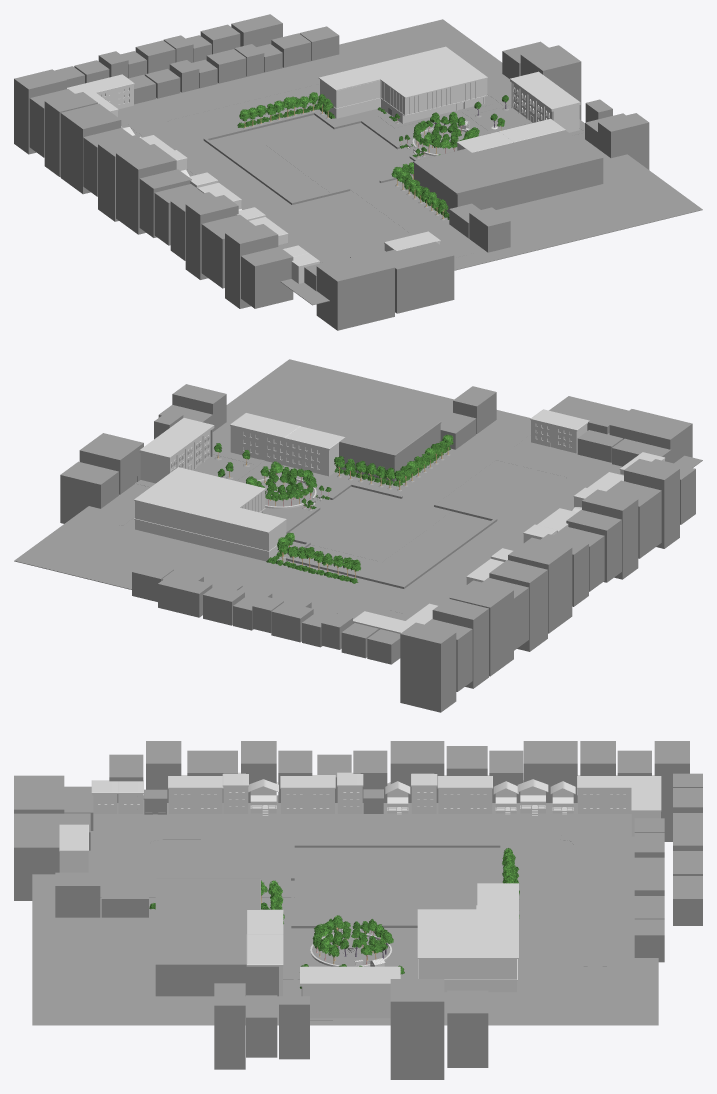
Rendered from school_final.fbx.
The picture shows the model from 3 angles, top to bottom: view 1: azimuth 30°, elevation 25°; view 2: azimuth 150°, elevation 25°; view 3: azimuth 270°, elevation 25°; orthographic projection. The views are drawn at different scales.
Visible parts, largest first — view 1: Ground, Main_Path, pCube16, pCube131, pCube156, Main_Path1, pCube157, pCube132, pCube143, pCube139, pCube161, pCube138 (+34 smaller); view 2: Ground, Main_Path, pCube131, pCube16, pCube146, pCube161, pCube132, pCube143, pCube156, pCube107, pCube138, pasted__House16 (+32 smaller); view 3: Ground, Main_Path, pCube16, pCube131, Main_Path1, pCube106, pCube161, pCube157, pCube107, pCube110, pCube143, pCube132 (+42 smaller).
Part boxes in pixels (<box>): Ground: <box>118,19,702,305</box>; Main_Path: <box>138,91,584,262</box>; pCube16: <box>413,130,603,212</box>; pCube131: <box>318,46,487,123</box>; pCube156: <box>316,252,394,330</box>; Main_Path1: <box>128,56,372,132</box>; pCube157: <box>377,241,454,313</box>; pCube132: <box>116,144,176,234</box>; pCube143: <box>60,103,121,194</box>; pCube139: <box>241,247,293,308</box>; pCube161: <box>510,71,580,132</box>; pCube138: <box>225,224,278,308</box>; Ground: <box>14,359,702,612</box>; Main_Path: <box>119,424,603,615</box>; pCube131: <box>134,467,286,561</box>; pCube16: <box>247,383,441,482</box>; pCube146: <box>400,622,456,712</box>; pCube161: <box>139,418,214,483</box>; pCube132: <box>508,537,572,633</box>; pCube143: <box>449,580,513,676</box>; pCube156: <box>609,409,692,463</box>; pCube107: <box>60,461,118,523</box>; pCube138: <box>624,459,679,548</box>; pasted__House16: <box>230,413,300,465</box>; Ground: <box>32,795,658,1025</box>; Main_Path: <box>100,822,561,1020</box>; pCube16: <box>155,878,278,996</box>; pCube131: <box>417,883,518,992</box>; Main_Path1: <box>561,821,616,966</box>; pCube106: <box>390,979,444,1079</box>; pCube161: <box>300,966,400,1018</box>; pCube157: <box>14,813,64,900</box>; pCube107: <box>447,990,488,1067</box>; pCube110: <box>214,983,245,1069</box>; pCube143: <box>523,741,577,802</box>; pCube132: <box>390,741,444,802</box>.
Size of the model in its own units: 445 by 66.52 by 498.
